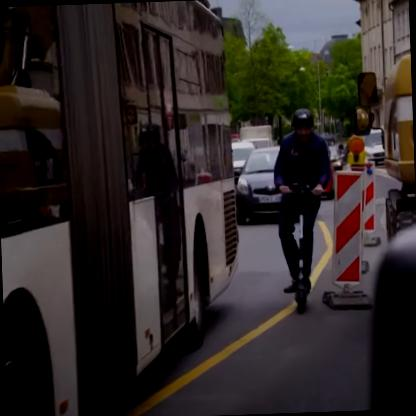helmet: (278, 101, 322, 142)
human: (275, 105, 328, 296)
kickboard: (280, 285, 317, 315)
